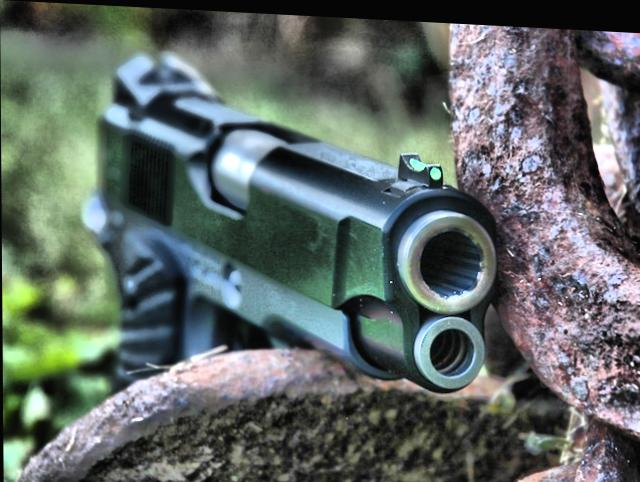pistol: (84, 42, 495, 397)
